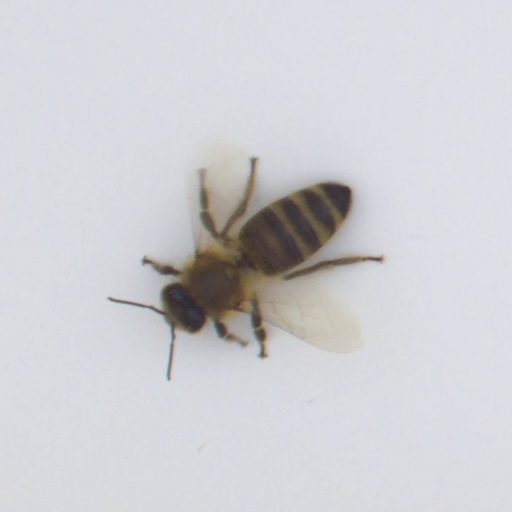Bee: (138, 161, 377, 350)
Thorax: (181, 252, 246, 312)
